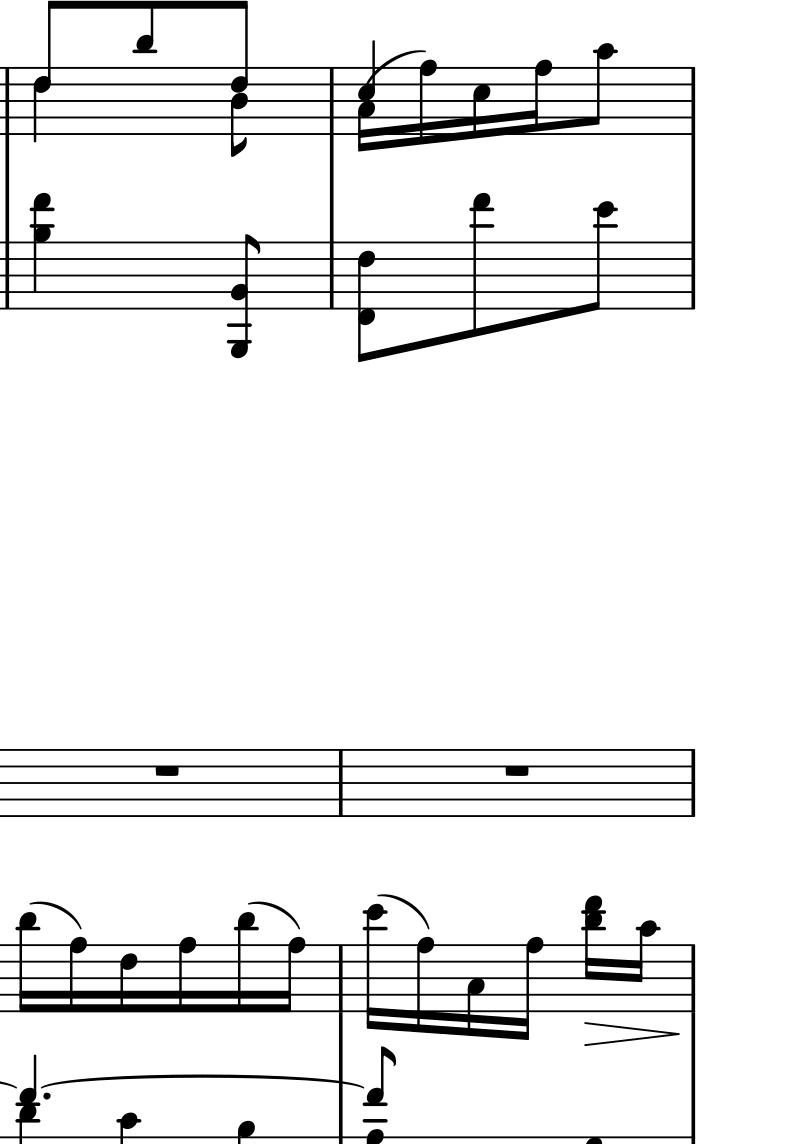16_10: (630, 920, 660, 1014)
16_11: (16, 911, 41, 1016), (234, 911, 257, 1013)
16_12: (363, 903, 388, 1031)
16_3: (465, 942, 487, 1040)
16_5: (470, 64, 493, 143)
16_6: (117, 943, 139, 1015)
16_8: (511, 935, 544, 1045), (275, 935, 306, 1015), (522, 59, 554, 134), (414, 935, 437, 1037), (418, 59, 439, 147), (67, 935, 89, 1015), (177, 936, 199, 1015)
8_-1_6: (356, 240, 378, 361)
8_-5_2: (228, 234, 264, 361)
8_10: (585, 42, 616, 136)
8_11: (131, 1, 160, 138)
8_12: (581, 197, 618, 315)
8_13: (470, 193, 495, 338)
8_9_13: (30, 192, 54, 311)
Diminuendo_hairpin: (583, 1020, 680, 1049)
Rests1: (150, 761, 184, 780), (500, 761, 534, 780)
Single_barline: (323, 67, 343, 134), (323, 241, 342, 309), (332, 945, 351, 1013), (683, 67, 702, 134), (683, 944, 701, 1012), (683, 242, 701, 309), (683, 750, 701, 816), (1, 68, 18, 134), (1, 241, 17, 309), (333, 751, 350, 815)
Slur: (363, 47, 429, 83), (386, 892, 427, 930), (35, 901, 80, 929), (256, 900, 296, 930)
dot: (41, 1090, 53, 1103)
